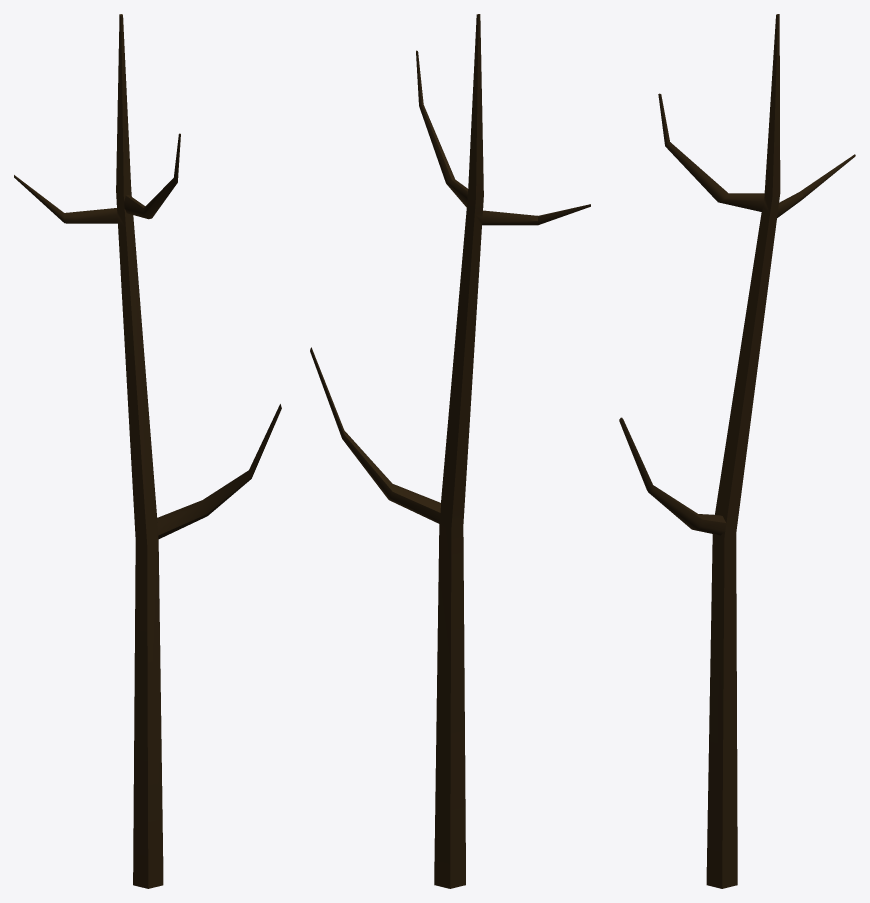
The model's file is Tree2.fbx.
3 views of the same model, side by side, from view 1: azimuth 30°, elevation 25°; view 2: azimuth 210°, elevation 25°; view 3: azimuth 270°, elevation 25° (orthographic). The views are drawn at different scales.
Visible parts, largest first — view 1: Zylinder; view 2: Zylinder; view 3: Zylinder.
Boxes of the visible parts, left/top/right/bottom form: Zylinder: left=14, top=14, right=281, bottom=888; Zylinder: left=310, top=14, right=590, bottom=888; Zylinder: left=619, top=14, right=855, bottom=888.
Size of the model in its own units: 432 by 2263 by 560.
